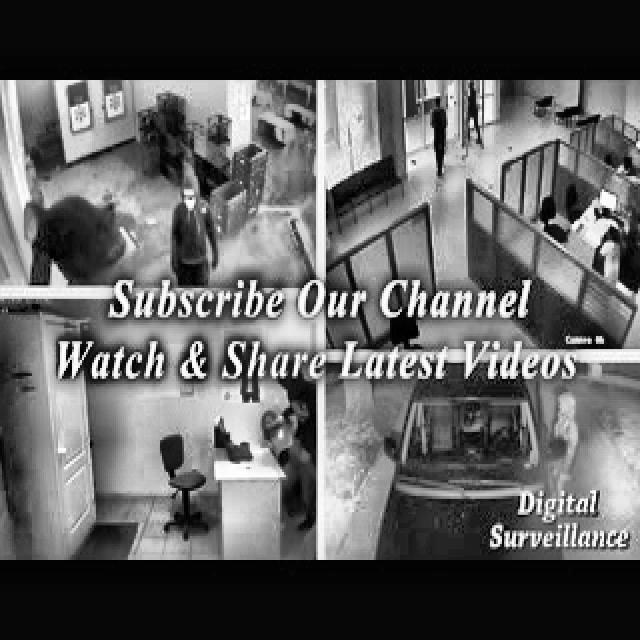robbery: (257, 378, 317, 540)
